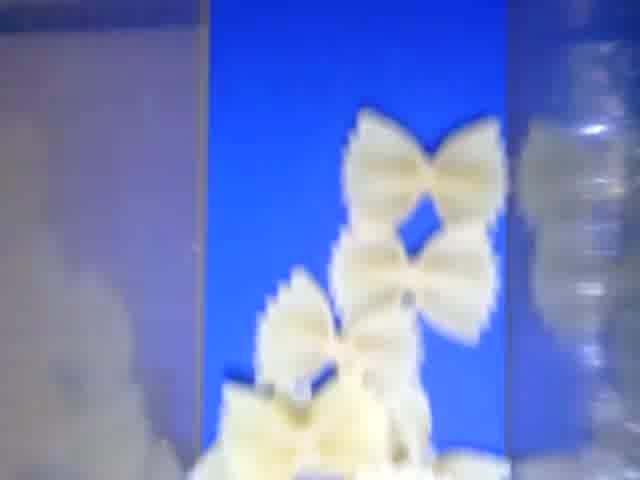farfalle: (254, 266, 423, 402), (330, 221, 501, 348), (340, 105, 508, 233), (222, 381, 374, 480)
